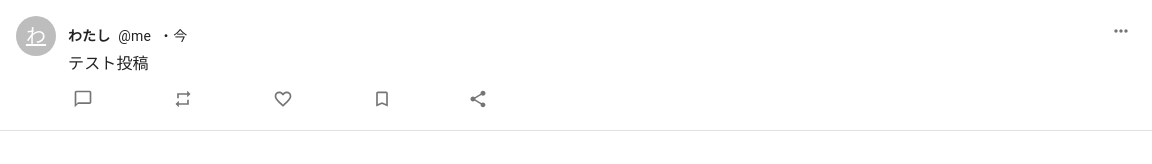
Test: PostCard › 自分の投稿のメニューには編集と削除が表示される
This screenshot has width=1152, height=164.
Click the button with test id "post-menu-button".
click(1121, 31)  # box [1106,16,1136,46]
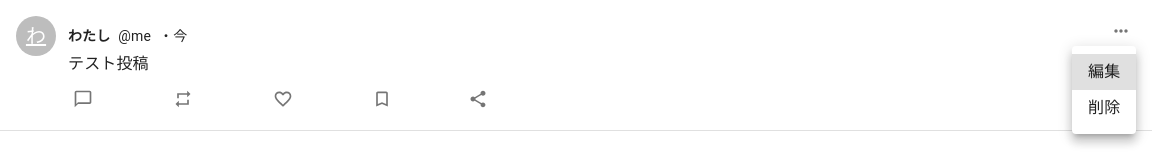
Expected: the menu item with test id "post-menu-edit" is shown, [1072,54,1136,90]
Expected: the menu item with test id "post-menu-delete" is shown, [1088,98,1120,117]
